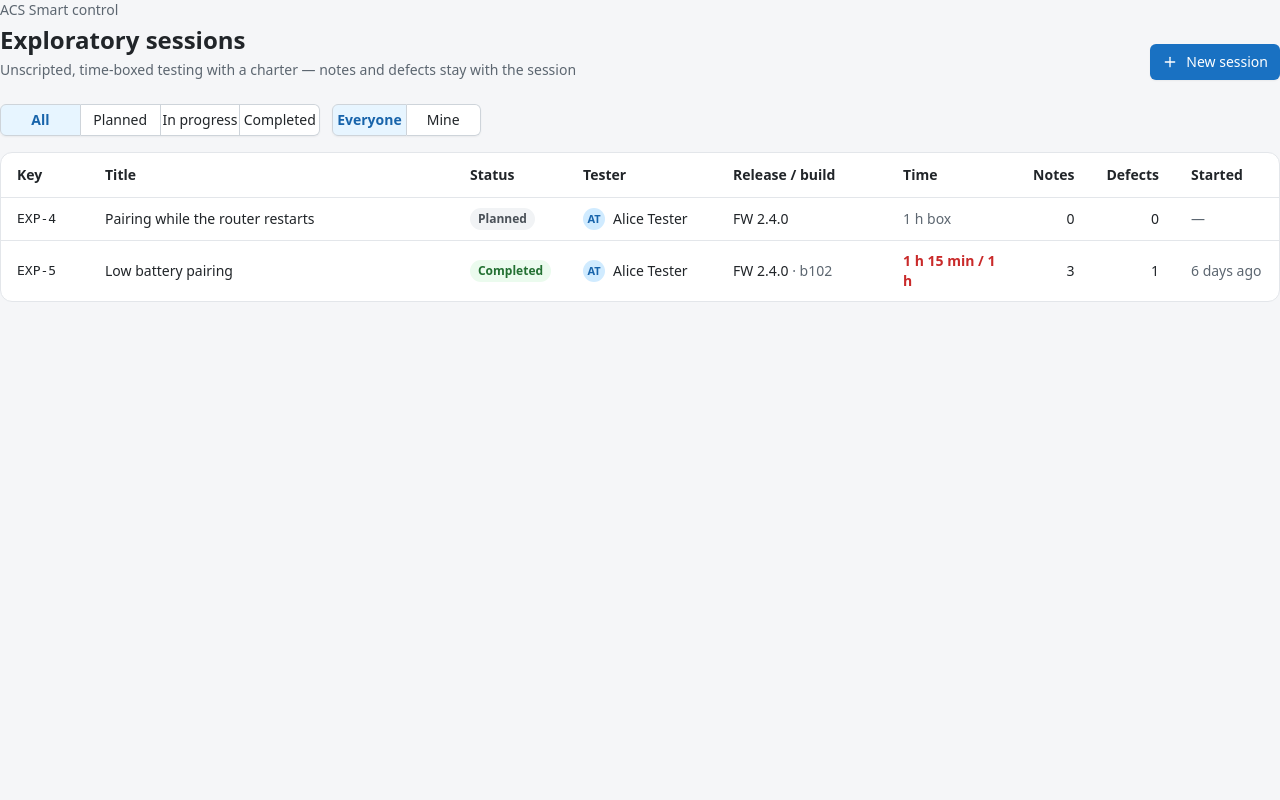
Test: Exploratory sessions list › creates a session and opens it
The image size is (1280, 800).
Click the button "New session".
click(1215, 62)  # box [1150,44,1279,80]
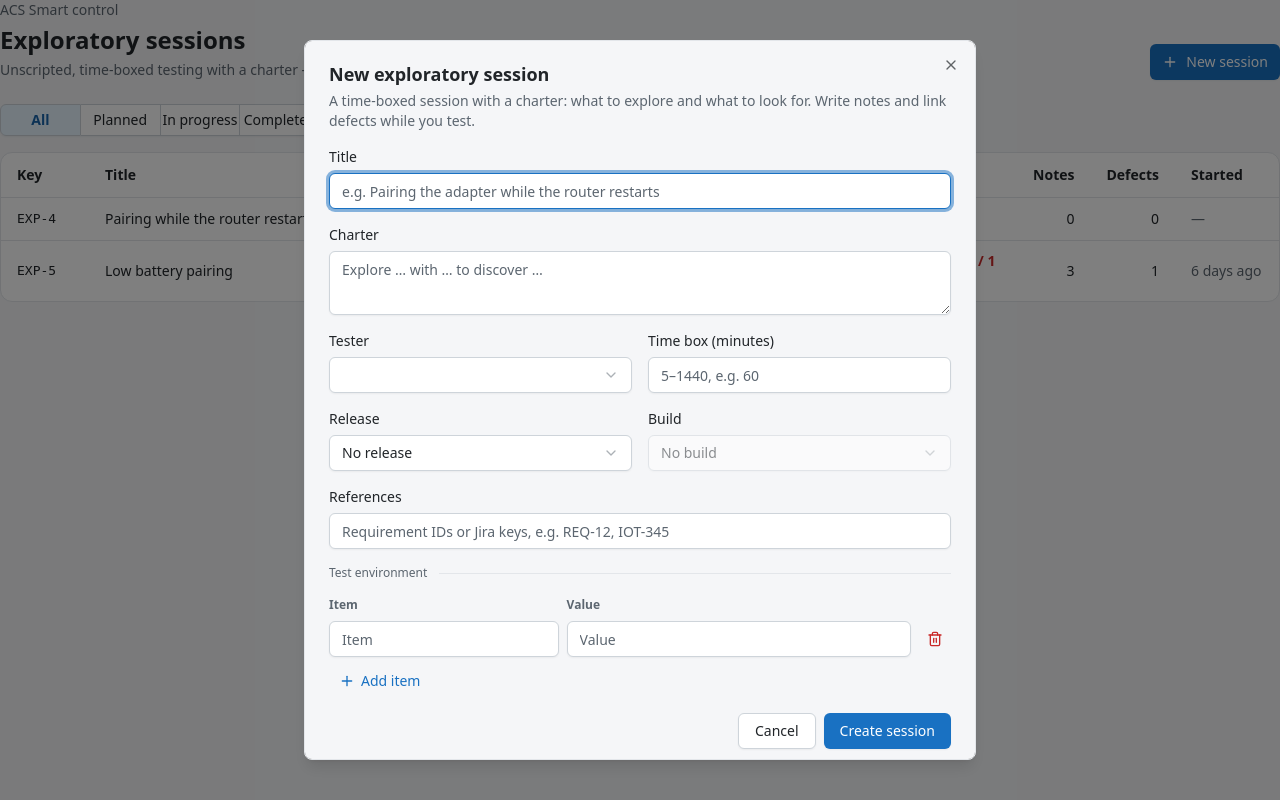
Note: The title is required.
Click the button "Create session".
click(887, 731)  # box [824,713,951,749]
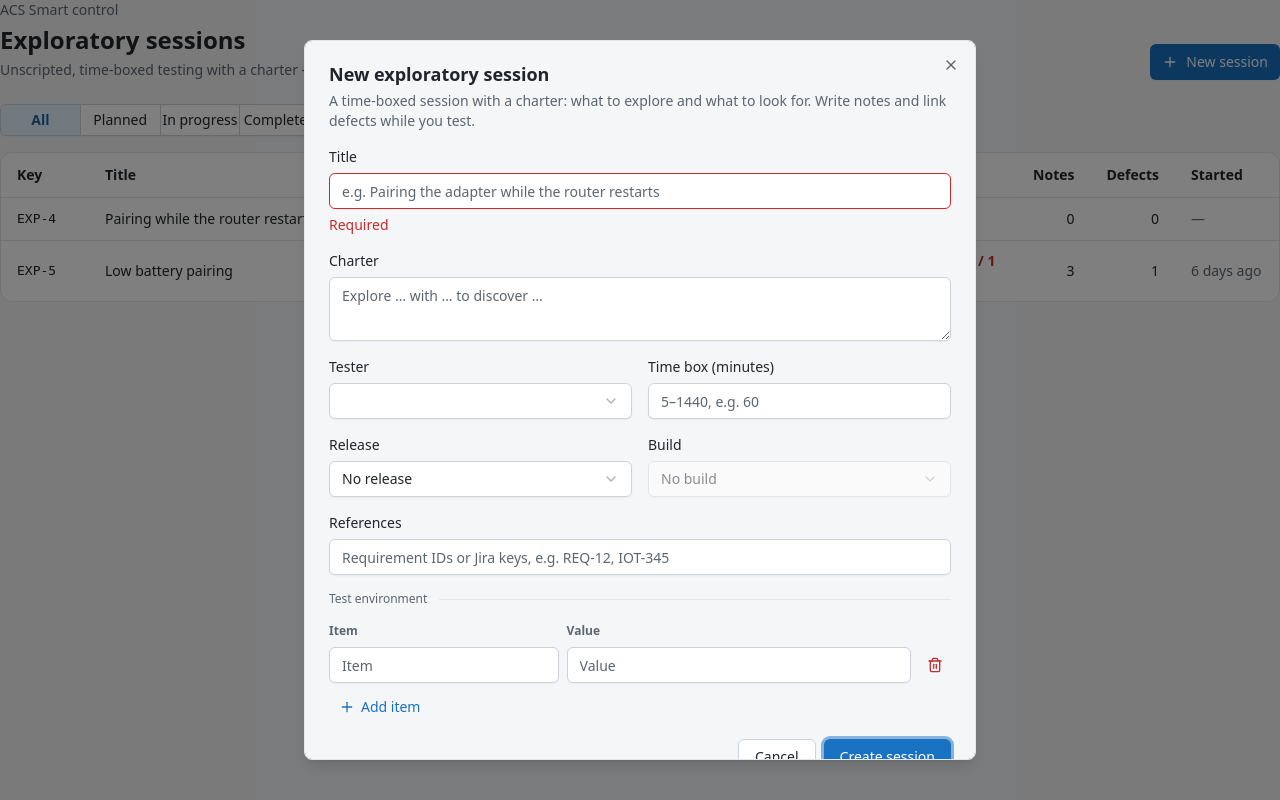
Expected: the text "Required" is shown, [329,215,388,234]
Type "Explore OTA" into the field labelled "Title".
click(640, 191); type("Explore OTA")  # box [329,173,951,209]
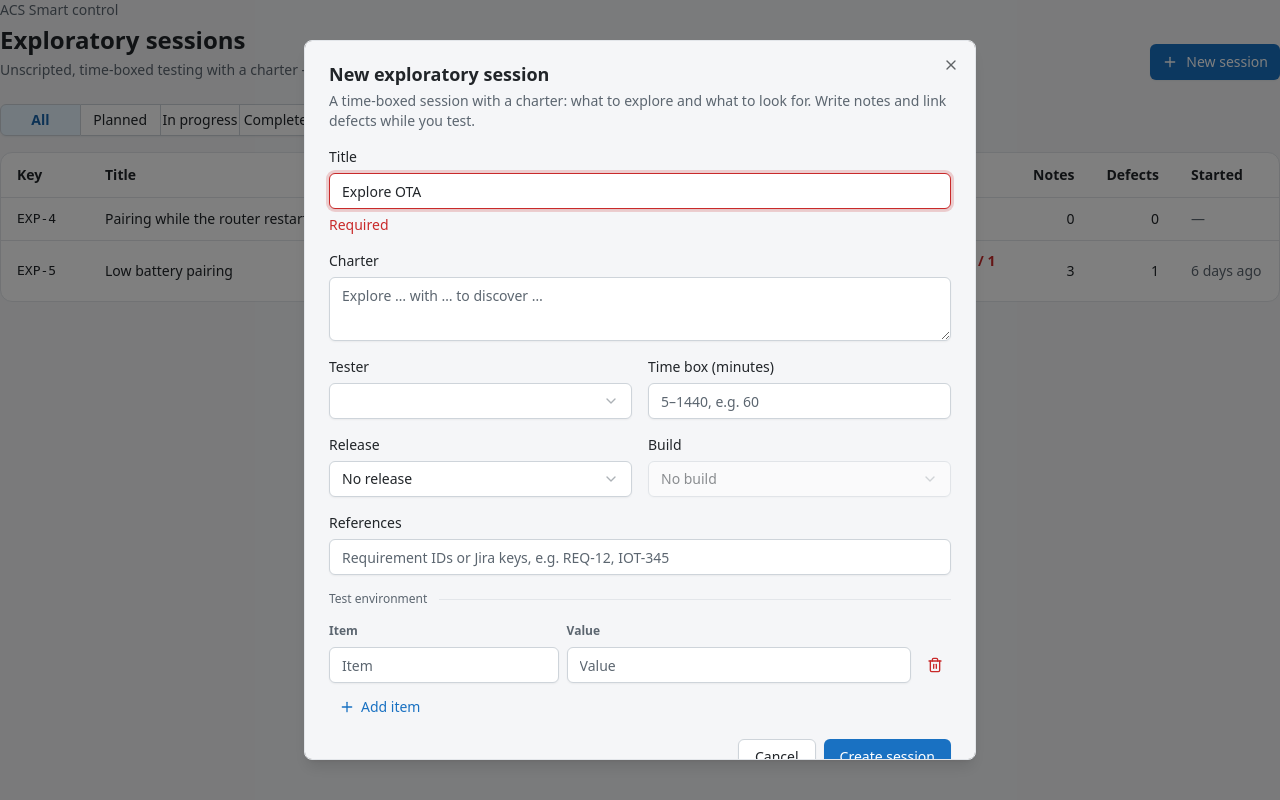
Type "Update over a weak signal" into the text box labelled "Charter".
click(640, 309); type("Update over a weak signal")  # box [329,277,951,341]
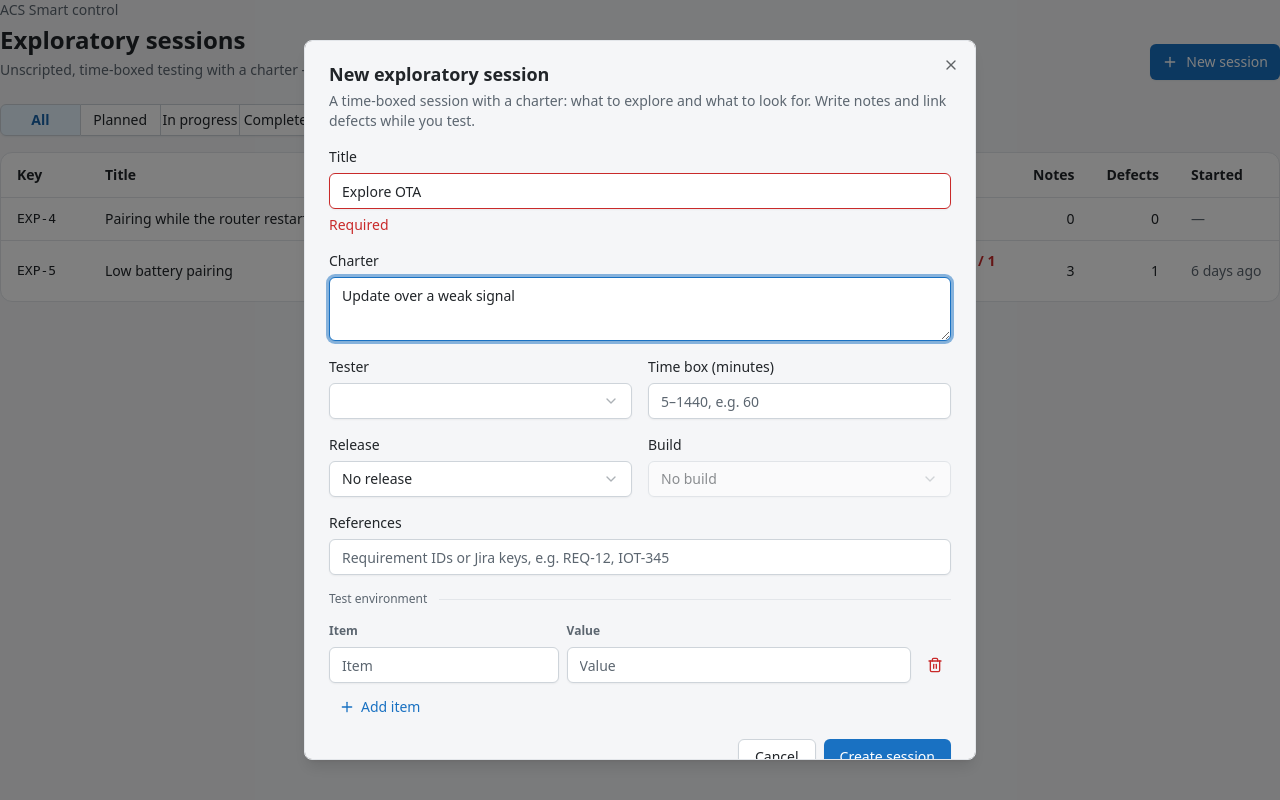
Type "45" into the field labelled "Time box (minutes)".
click(800, 401); type("45")  # box [648,383,951,419]
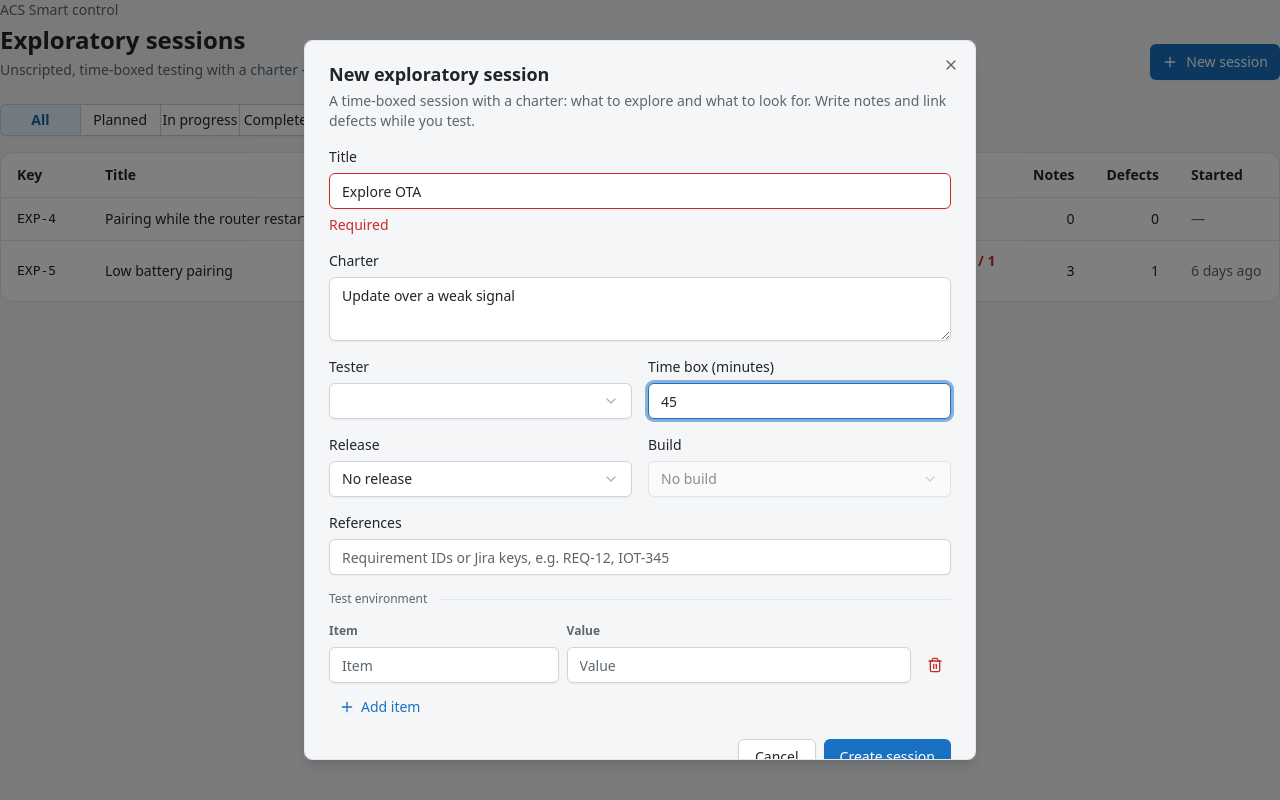
Click the button "Create session".
click(887, 757)  # box [824,739,951,775]
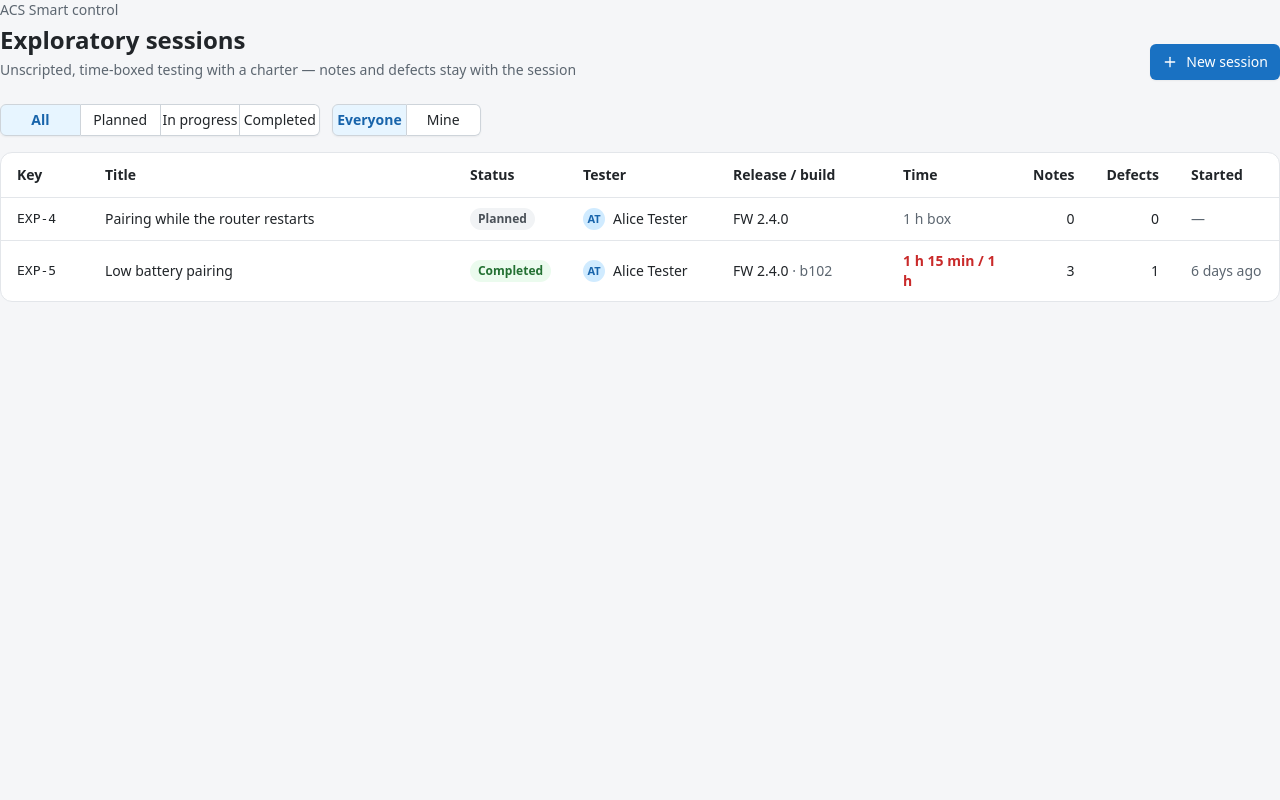
Expected: the dialog is gone
